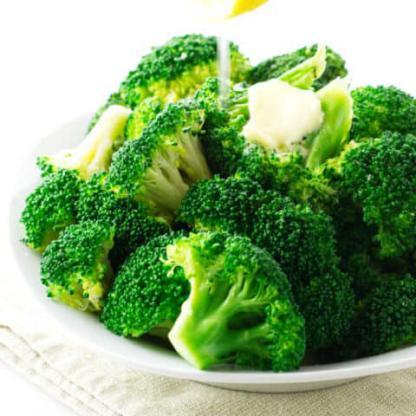broccoli: (19, 30, 415, 370)
